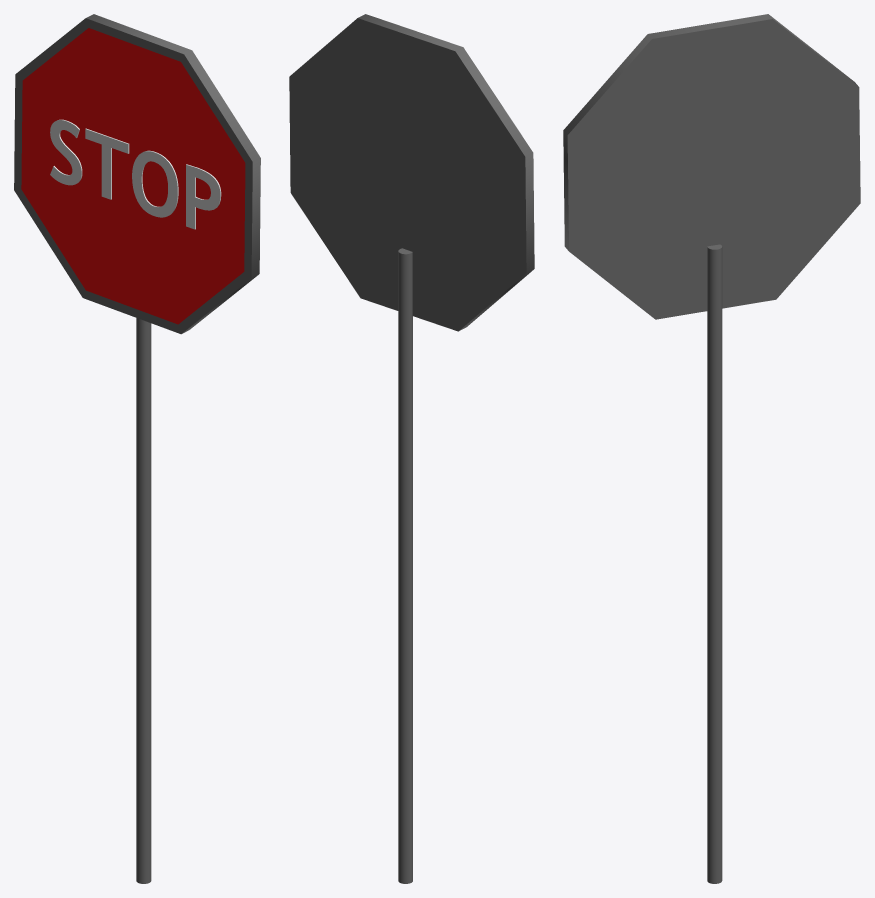
File: Stop sign.obj
3 views of the same model, side by side, from view 1: azimuth 30°, elevation 25°; view 2: azimuth 210°, elevation 25°; view 3: azimuth 270°, elevation 25° (orthographic).
Parts seen in each view (by area): view 1: Object001, Cylinder002, Cylinder001, Text001; view 2: Cylinder002, Cylinder001; view 3: Cylinder002, Cylinder001.
Boxes of the visible parts, left/top/right/bottom form: Object001: left=21, top=28, right=245, bottom=324; Cylinder002: left=14, top=14, right=260, bottom=334; Cylinder001: left=136, top=318, right=151, bottom=883; Text001: left=50, top=119, right=221, bottom=229; Cylinder002: left=289, top=14, right=534, bottom=331; Cylinder001: left=398, top=248, right=412, bottom=883; Cylinder002: left=563, top=14, right=860, bottom=319; Cylinder001: left=707, top=244, right=722, bottom=883.
Size of the model in its own units: 118 by 933 by 295.
